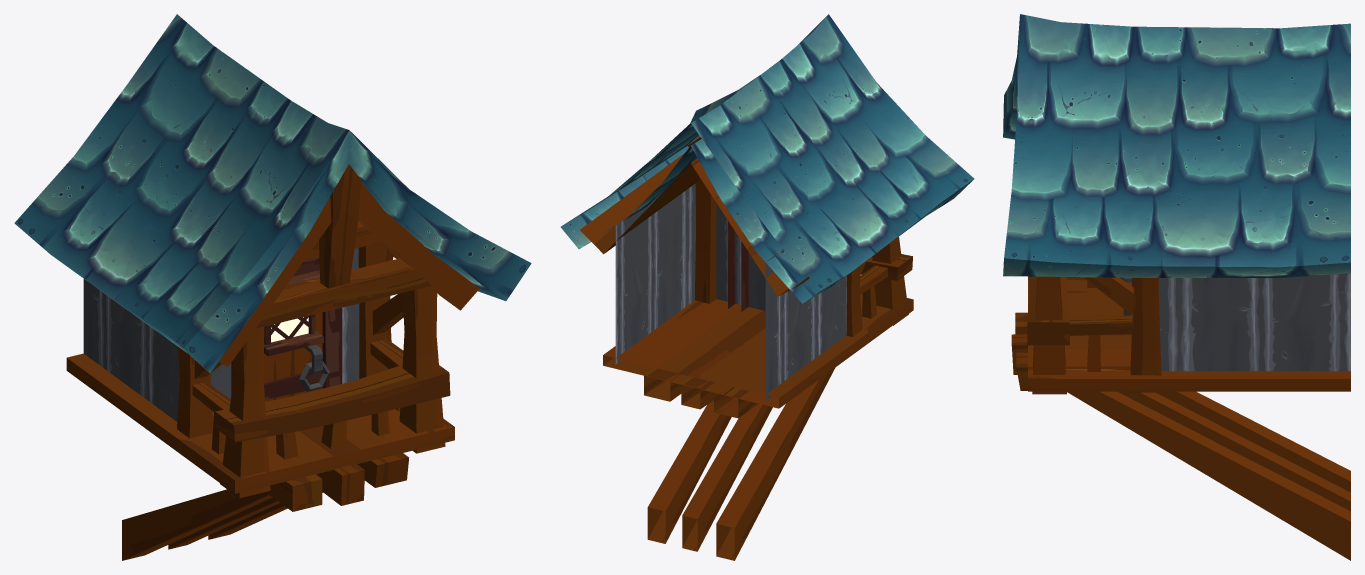
The model's file is OtherMap.fbx.
3 renders of one model, left to right at view 1: azimuth 30°, elevation 25°; view 2: azimuth 150°, elevation 25°; view 3: azimuth 270°, elevation 25°, orthographic. The views are drawn at different scales.
Parts seen in each view (by area): view 1: SM_BLD_balcony_v02_01; view 2: SM_BLD_balcony_v02_01; view 3: SM_BLD_balcony_v02_01.
Boxes of the visible parts, x1,y1,x2,y2 form: SM_BLD_balcony_v02_01: (14, 14, 531, 560); SM_BLD_balcony_v02_01: (560, 14, 974, 560); SM_BLD_balcony_v02_01: (1003, 14, 1350, 560).
Size of the model in its own units: 535 by 482 by 798.
